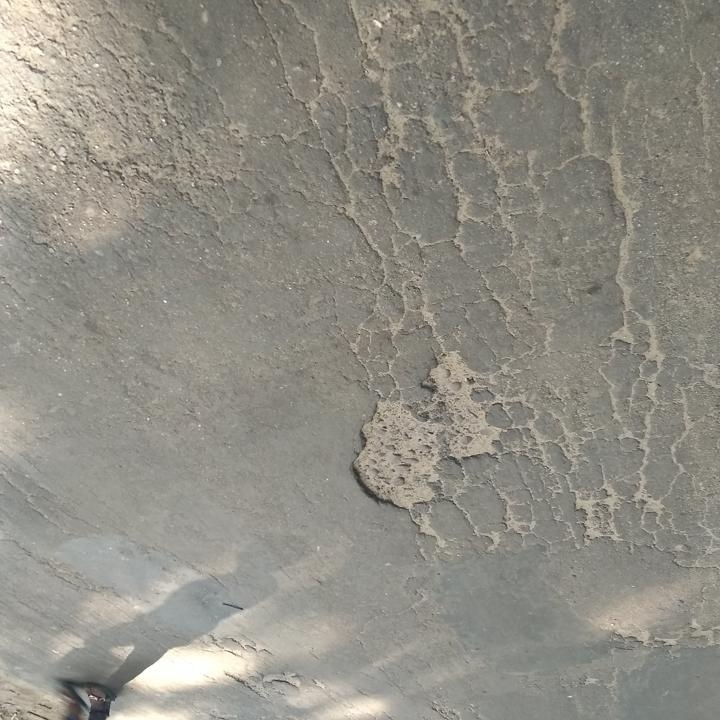pothole: (348, 347, 507, 519)
